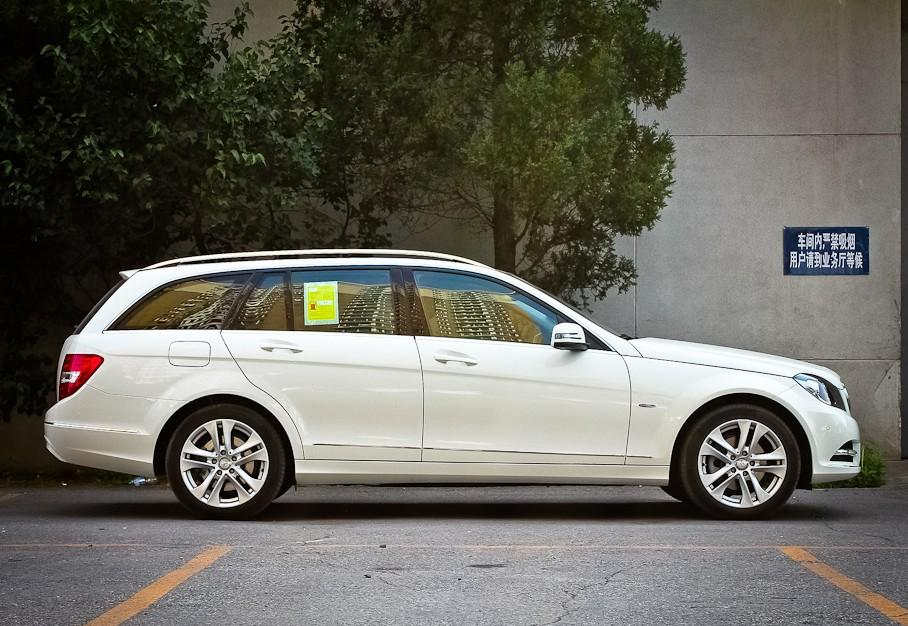Wagon: (37, 244, 865, 521)
